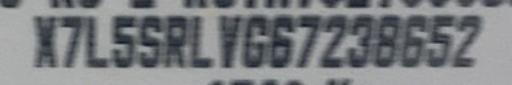letter: (426, 12, 456, 69), (452, 13, 484, 66), (270, 12, 296, 69), (348, 12, 374, 69), (32, 12, 58, 69), (164, 13, 190, 70), (110, 14, 136, 71), (320, 13, 346, 68), (401, 13, 427, 68), (294, 14, 320, 69), (374, 14, 400, 69), (84, 14, 110, 69), (58, 14, 84, 67), (218, 12, 242, 69), (138, 14, 162, 71), (192, 12, 214, 69), (244, 14, 266, 69)
